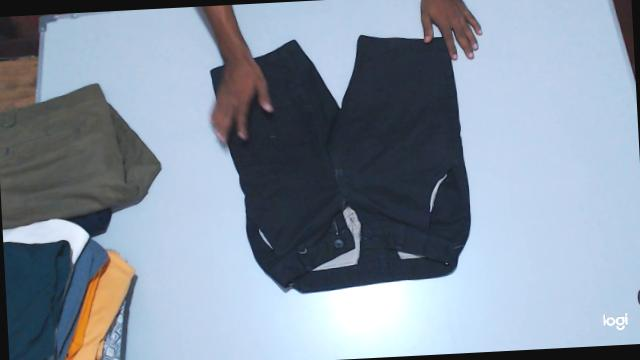new-garment: (225, 35, 470, 292), (227, 35, 470, 291), (210, 60, 245, 109)
